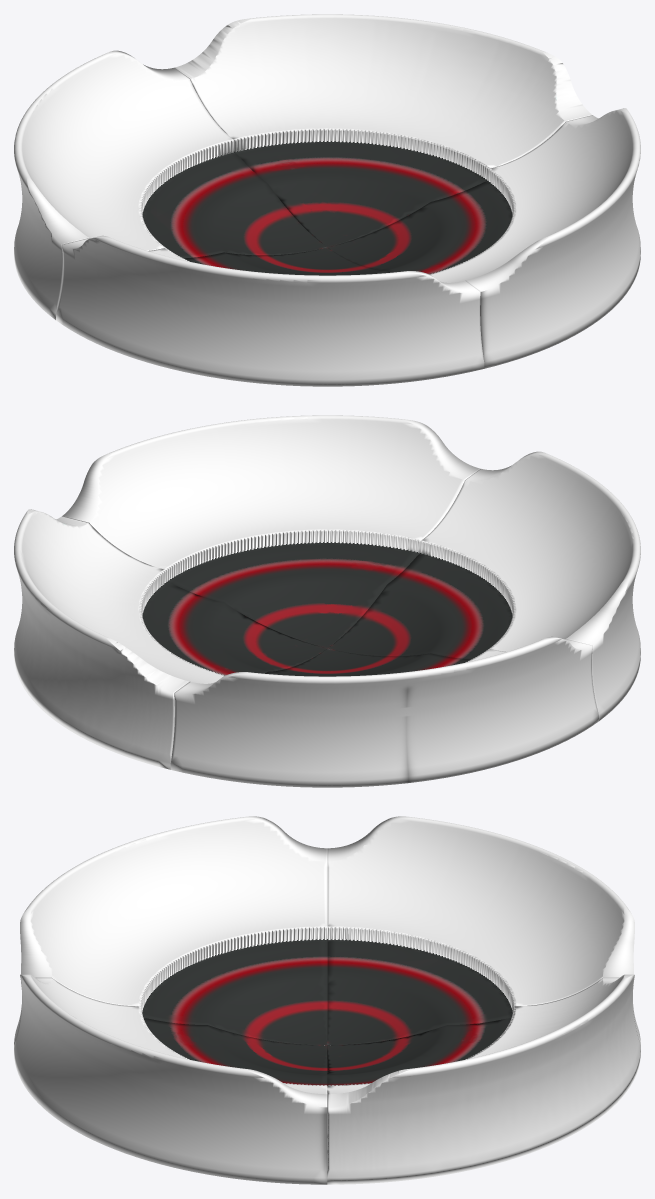
Rendered from Arena.fbx.
3 renders of one model, top to bottom at view 1: azimuth 30°, elevation 25°; view 2: azimuth 150°, elevation 25°; view 3: azimuth 270°, elevation 25°, orthographic.
Visible parts, largest first — view 1: ARENAYES.002; view 2: ARENAYES.002; view 3: ARENAYES.002.
Boxes of the visible parts, x1,y1,x2,y2 form: ARENAYES.002: (14, 14, 640, 386); ARENAYES.002: (14, 415, 640, 787); ARENAYES.002: (14, 816, 640, 1184).
Size of the model in its own units: 420 by 420 by 80.51.
Materials: 1 (1 with a texture image).
